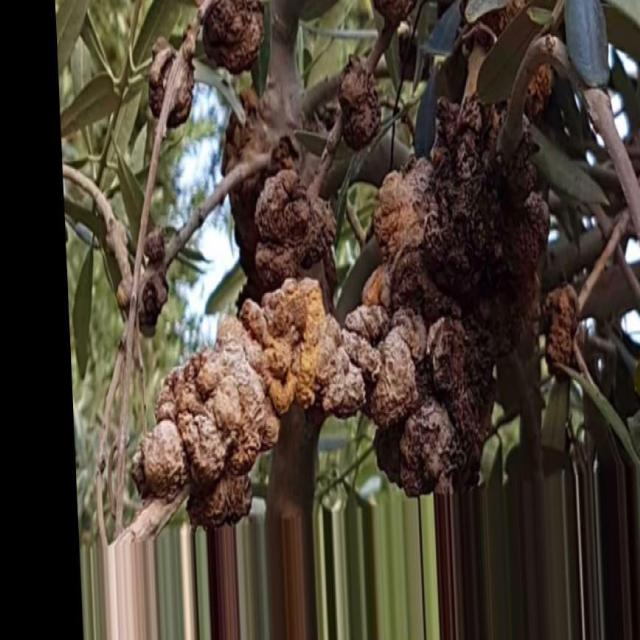Tuberculosis: (131, 99, 549, 534), (149, 0, 263, 127), (339, 58, 380, 150)
